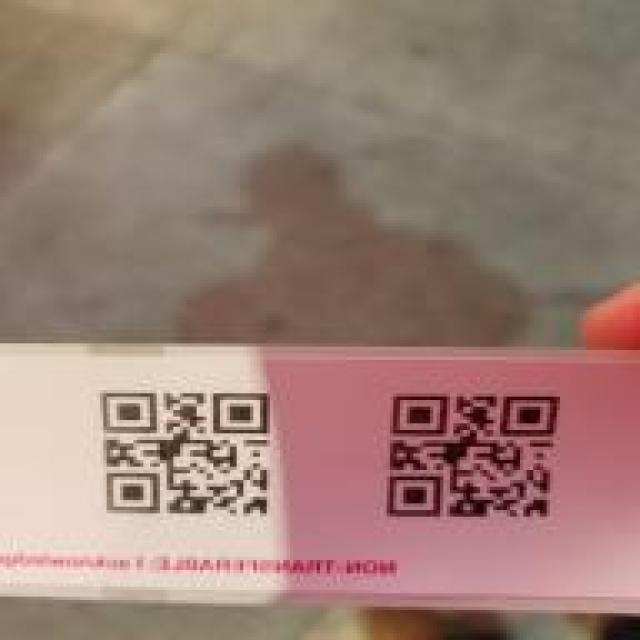qr_code: (386, 394, 560, 519), (102, 391, 270, 515)
